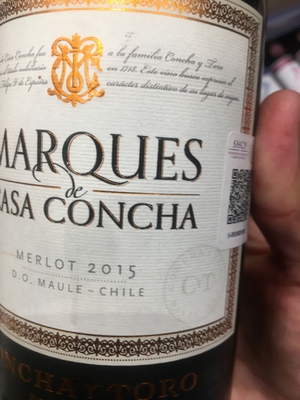marques de casa concha merlot: (2, 1, 269, 400)
